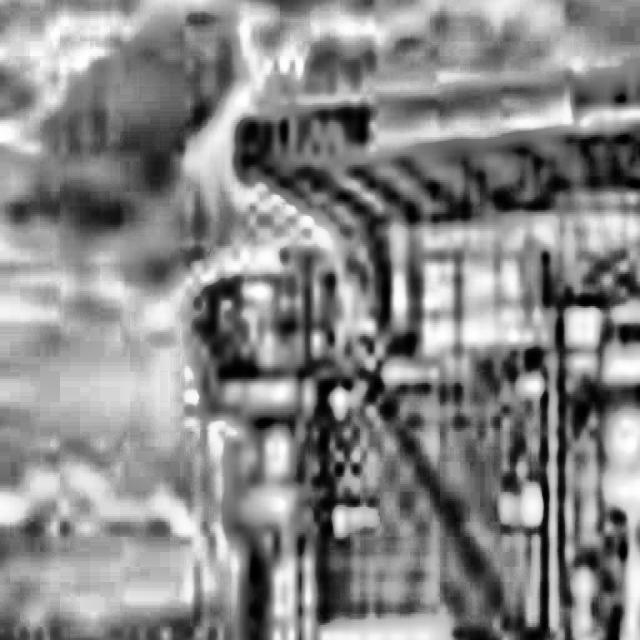dump_truck: (185, 39, 640, 640)
